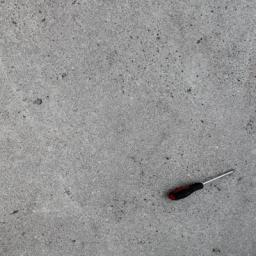FOD: (167, 168, 239, 202)
